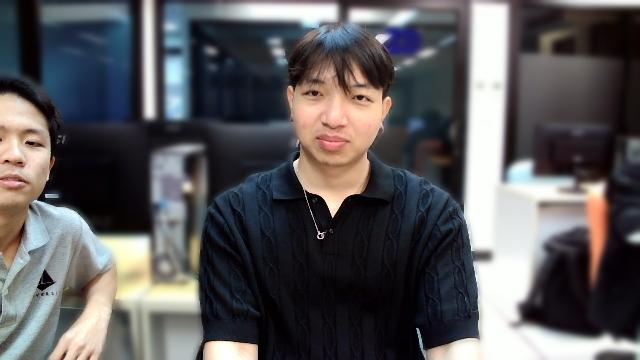fokus: (289, 41, 392, 161)
